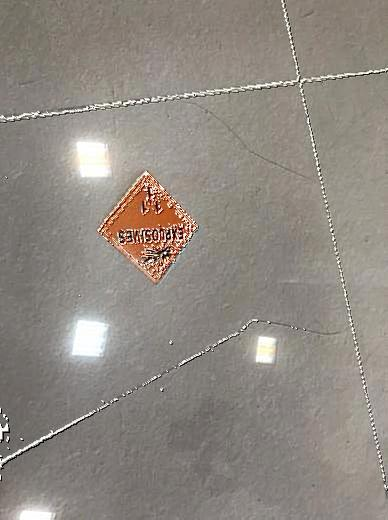explosive: (98, 171, 198, 285)
